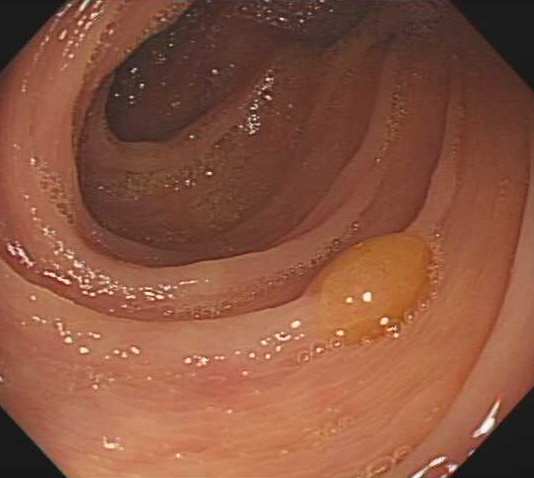others: (302, 229, 438, 351)
